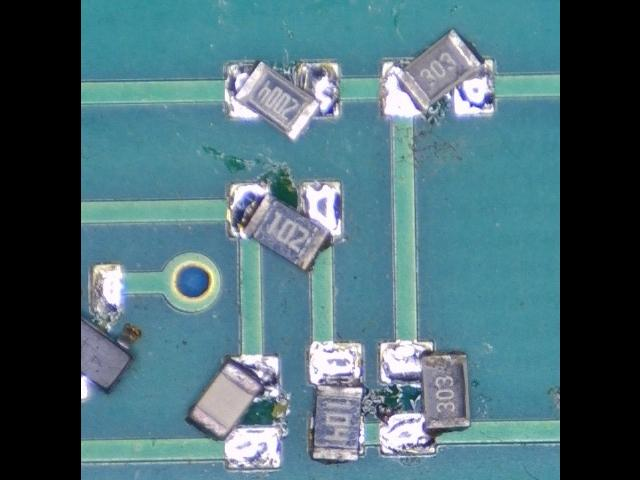Incorrect_installation: (186, 355, 283, 471), (228, 181, 343, 275), (379, 341, 471, 456), (382, 28, 495, 118), (226, 61, 341, 143), (81, 264, 142, 400), (309, 343, 364, 463)
